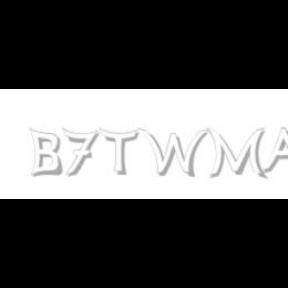7: (62, 128, 100, 178)
B: (28, 128, 62, 178)
M: (206, 128, 266, 180)
T: (99, 128, 139, 176)
W: (137, 128, 209, 178)
